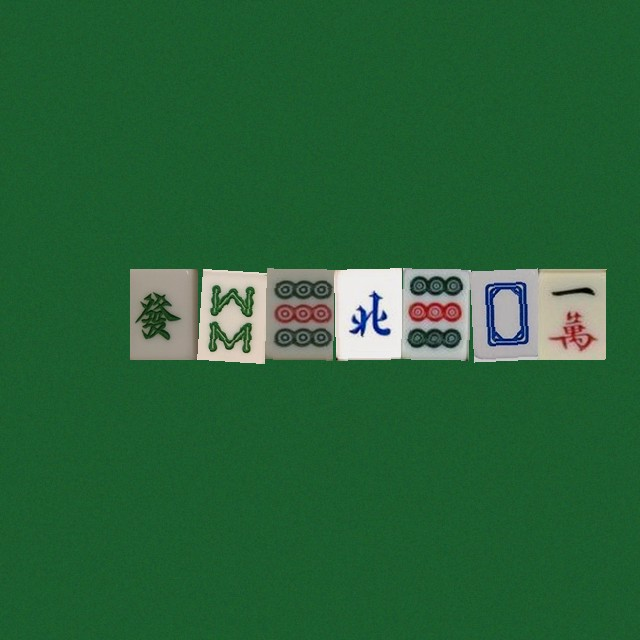tile: (129, 268, 197, 359), (197, 268, 265, 359), (265, 268, 333, 359), (333, 268, 401, 359), (401, 268, 469, 359), (469, 268, 537, 359), (537, 268, 605, 359)
